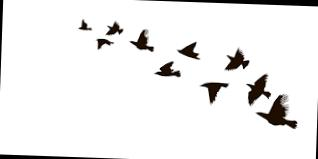bird: (216, 42, 256, 71), (192, 76, 228, 106), (125, 22, 158, 52), (149, 57, 182, 78), (74, 13, 94, 31)
